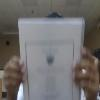notebook: (17, 16, 85, 99)
